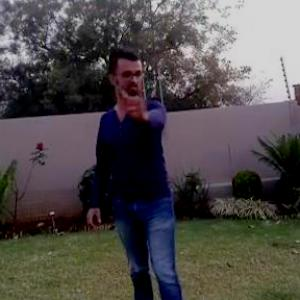takeoff-hand: (115, 82, 152, 123)
